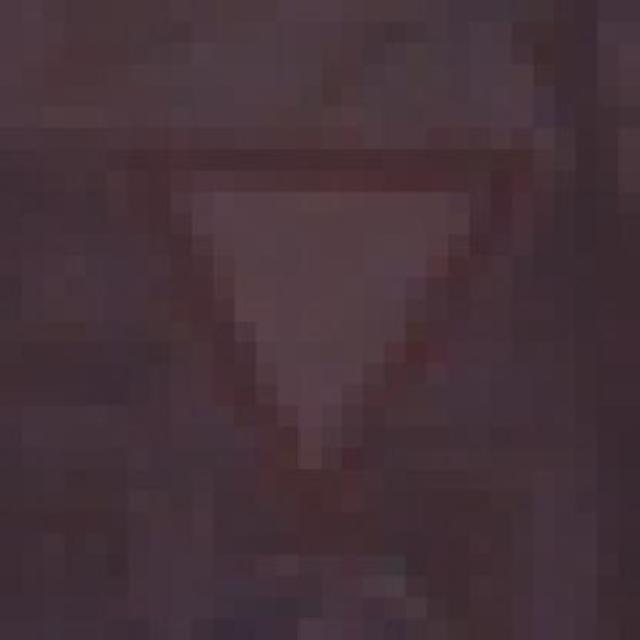Give Way: (107, 107, 555, 555)
